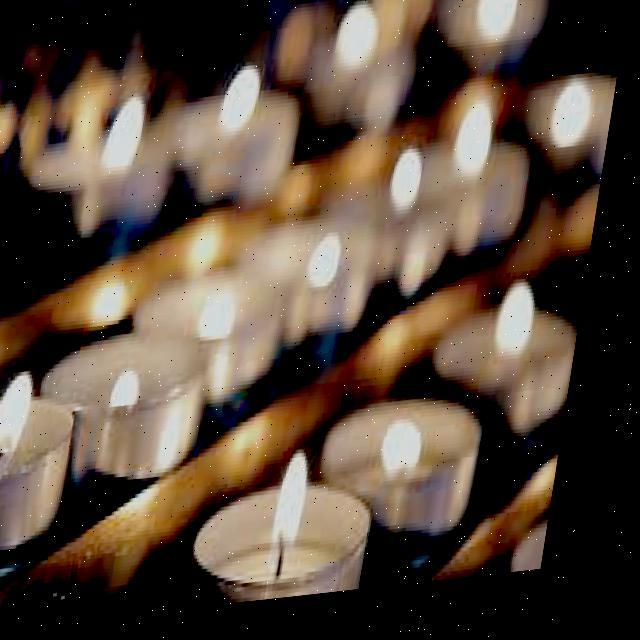Fire: (0, 360, 51, 480), (280, 450, 332, 560)
